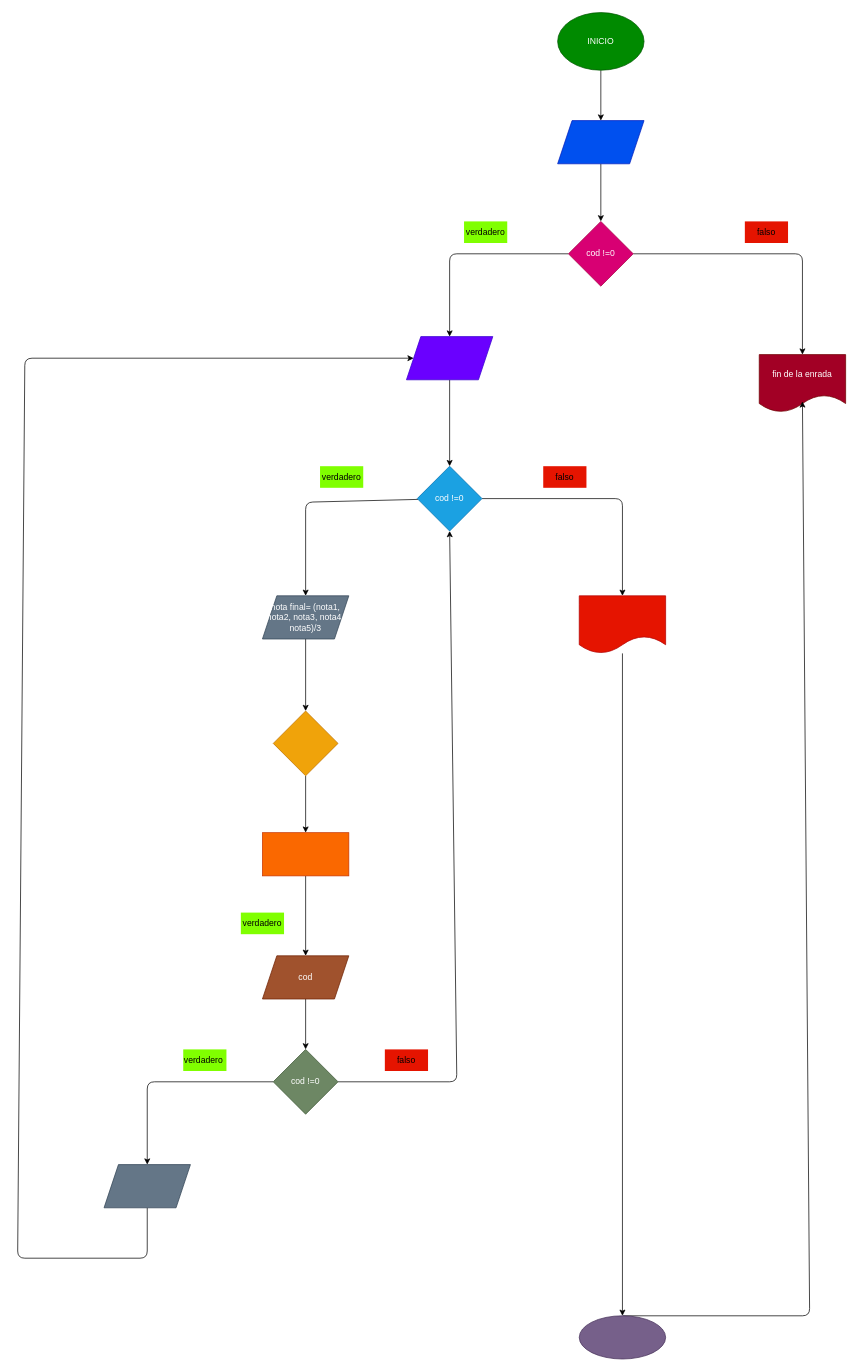
This 858x1372 diagram has some shape labels left out. Each missing label, with the centre of its shape:
cod reprobados=0: the point at 600,142
fin: the point at 622,1337
nota1, nota2, nota3, nota4 nota5: the point at 449,358
nota1, nota2, nota3, nota4, nota5: the point at 146,1186
notafinal<3: the point at 305,743
reprobados: the point at 622,624
reprobados= reprobados+1: the point at 305,854
